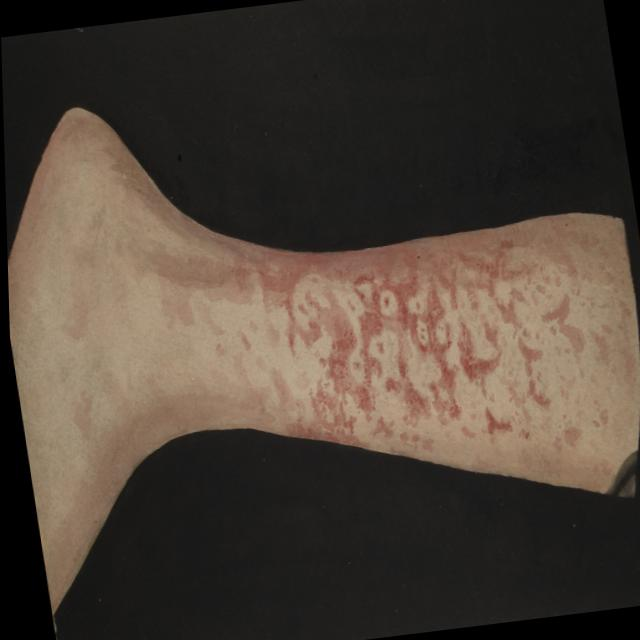Erythema marginatum: (328, 247, 576, 446)
